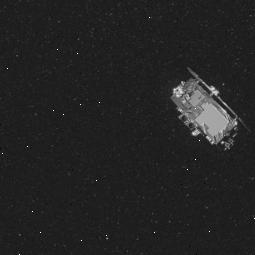lisa_pathfinder: (156, 58, 252, 160)
